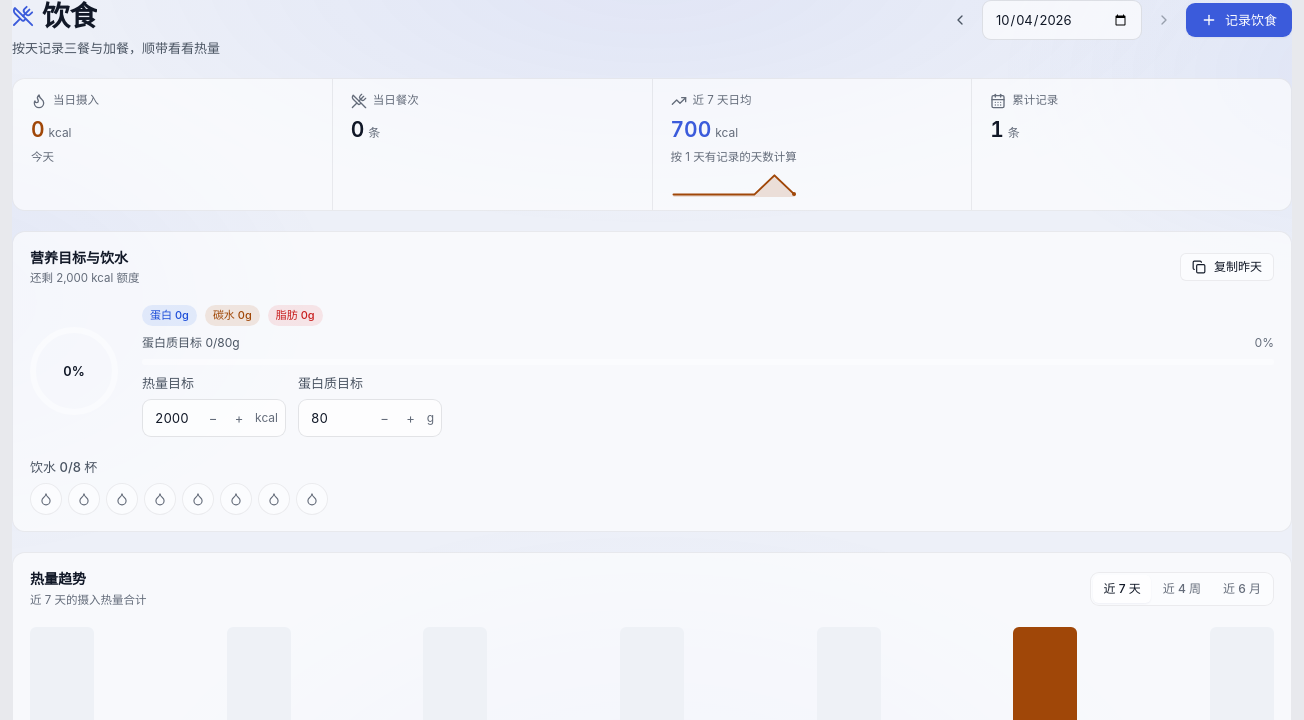
Test: DietPage › 可以切换日期，今天之后不能往后翻
expect the button named "后一天" is disabled: met, box [1150,6,1178,34]
Click the button named "前一天". click: [960, 20]
box: [946,6,974,34]
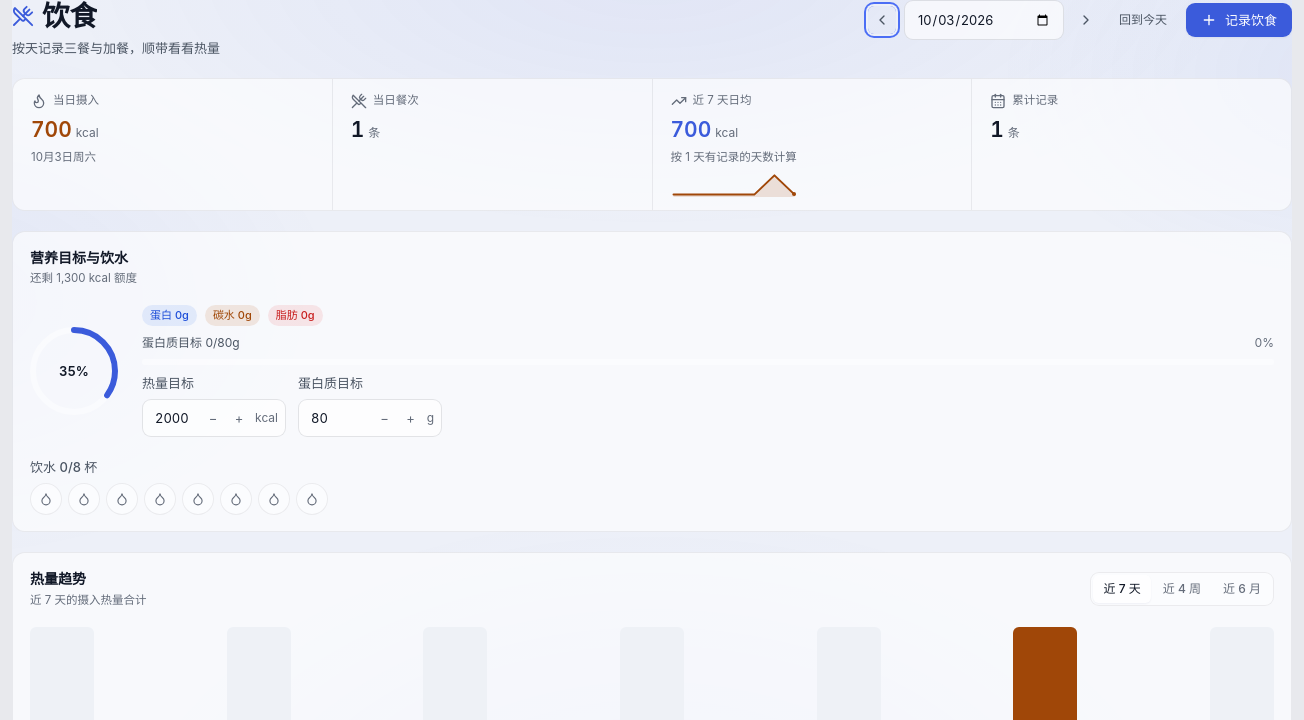
expect the button named "后一天" is enabled: met, box [1072,6,1100,34]
expect the text "当日摄入" shows "700": met, box [31,117,72,142]
Click the button "回到今天". click: [1143, 20]
box: [1108,6,1178,34]
(page scrolled)
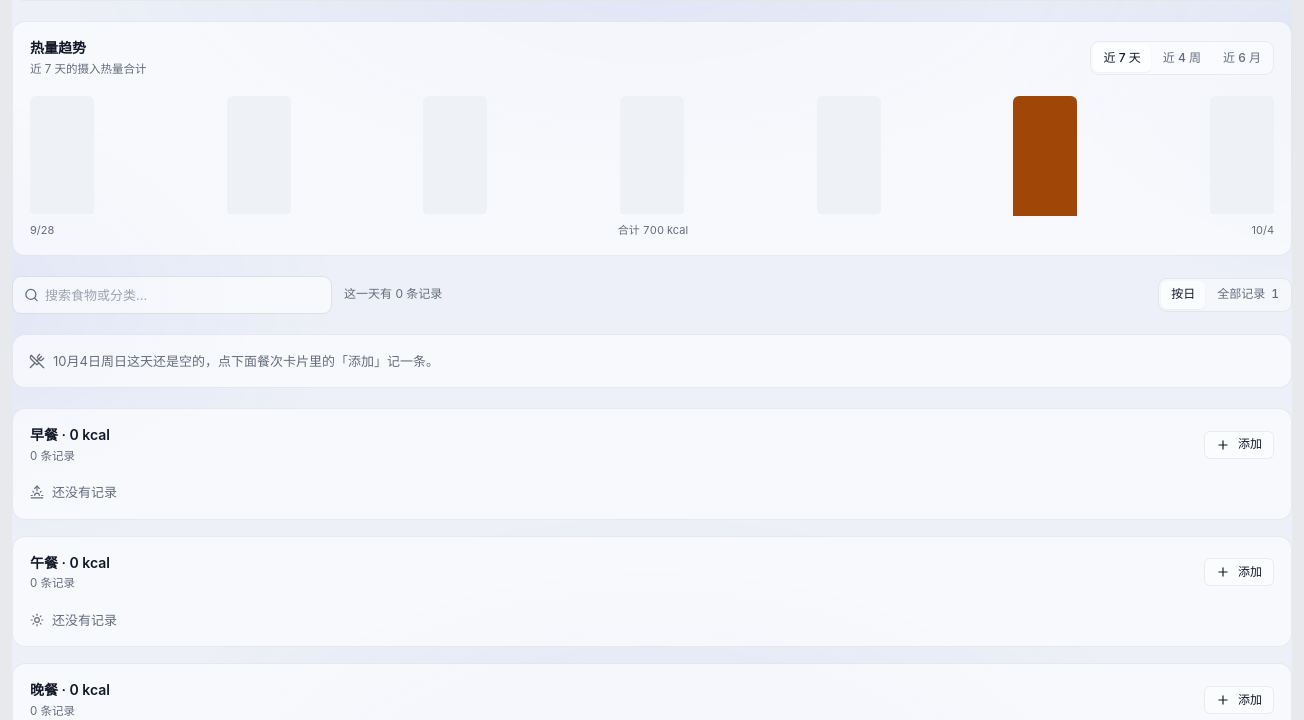
expect the text "这天还是空的" is shown: met, box [127,353,439,369]
